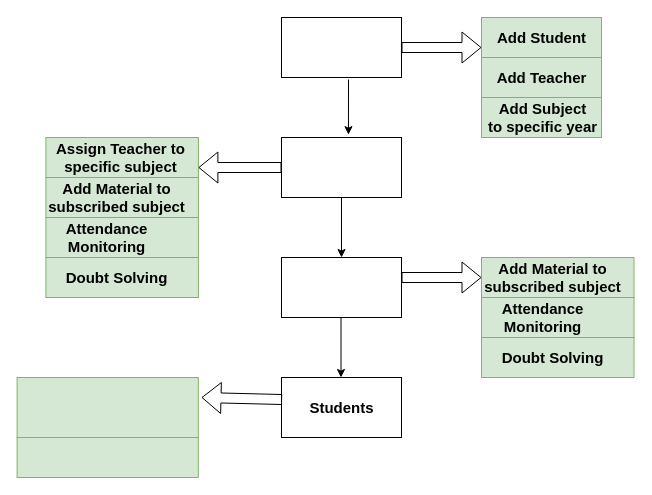
This 652x495 diagram has some shape labels left out. The shapes that lost their labels are listed below. From the top down, each one's centre as x and y in pixels, then its label:
[341,47]: Admin
[341,167]: HOD
[341,287]: Faculty
[107,407]: Access to uploaded material by teachers lecture wise
[107,457]: Can raise doubts
